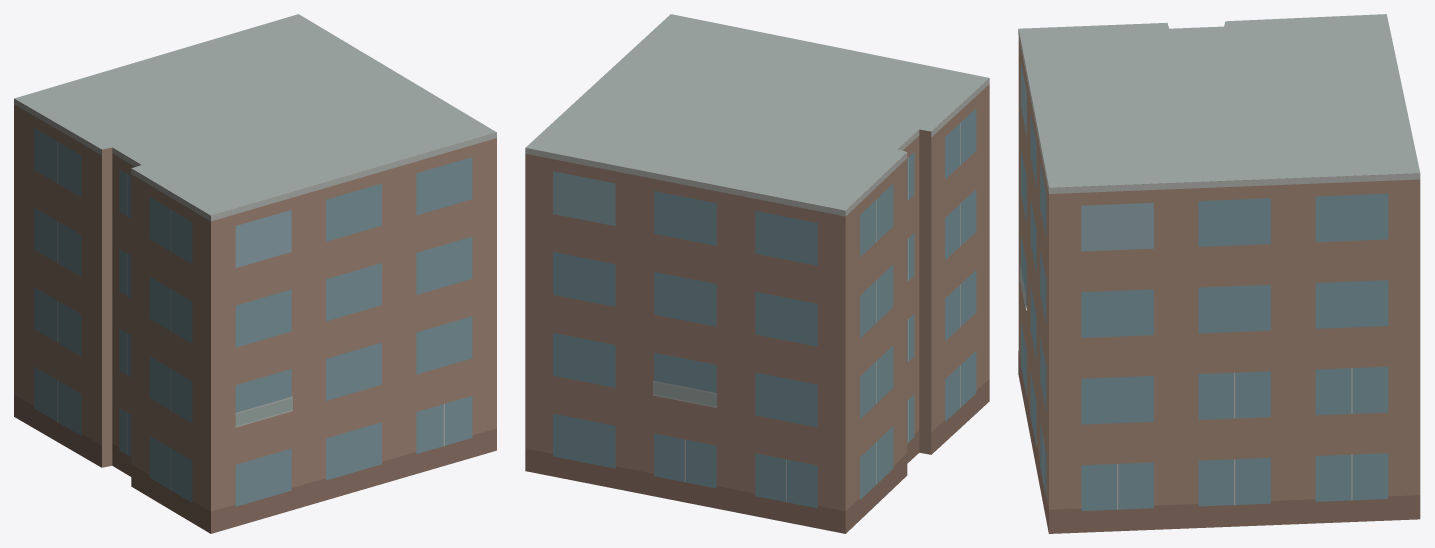
File: survey-upis-32985579.glb
3 views of the same model, side by side, from view 1: azimuth 30°, elevation 25°; view 2: azimuth 150°, elevation 25°; view 3: azimuth 270°, elevation 25° (orthographic). The views are drawn at different scales.
Parts seen in each view (by area): view 1: survey-upis-32985579.tmp; view 2: survey-upis-32985579.tmp; view 3: survey-upis-32985579.tmp.
Part boxes in pixels (x1,y1,x2,y2): survey-upis-32985579.tmp: [14, 14, 496, 533]; survey-upis-32985579.tmp: [525, 14, 989, 533]; survey-upis-32985579.tmp: [1018, 14, 1420, 533].
Bounding box in the file's own units: 14.44 × 13.4 × 14.11.
